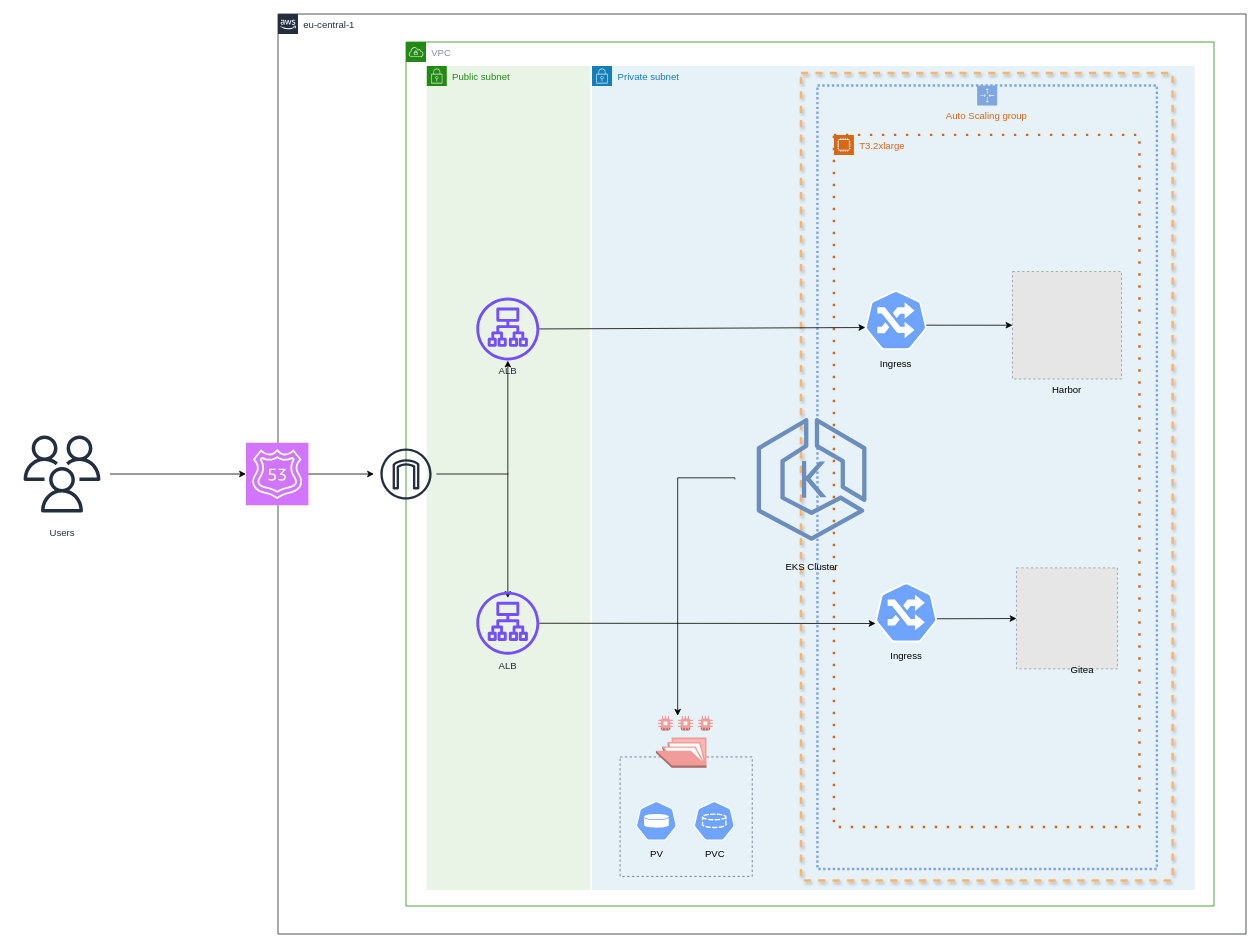
Image size: 1260x948. Some labels were removed from this diagram. Grey dashed boxes stand in for pictures. The shapes that lost their labels are listed below. From the top down, each one's centre as x and y in pixels, then its label:
(x=276, y=473): Route 53
(x=405, y=473): Internet gateway
(x=684, y=741): EFS
